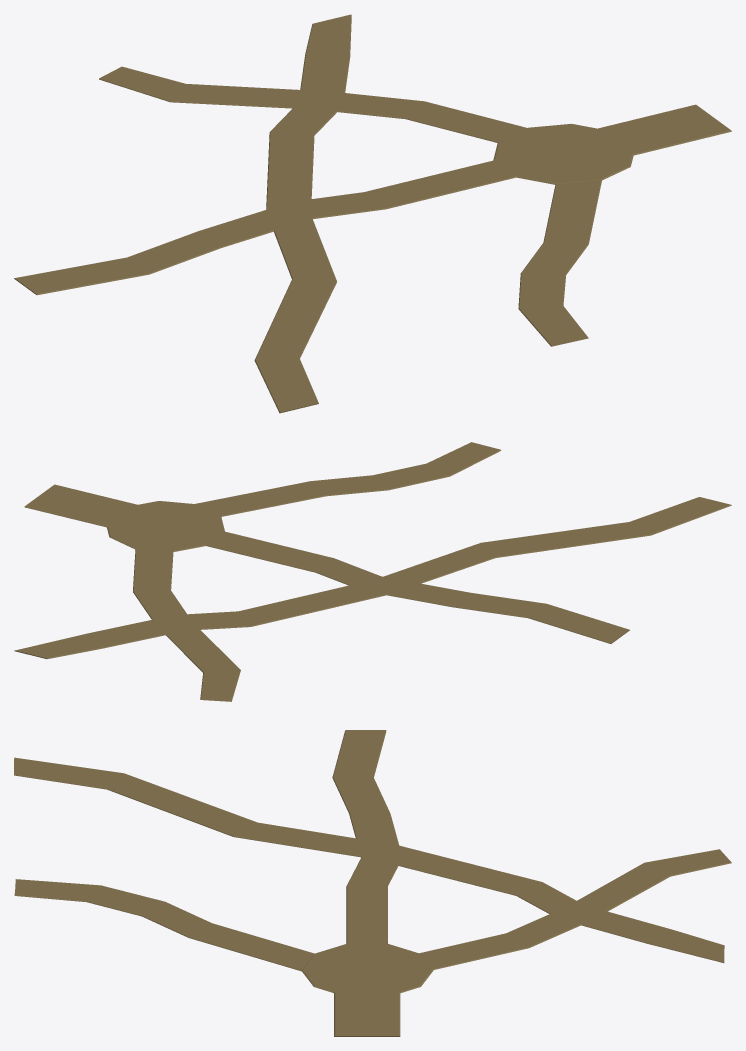
Rendered from Road.fbx.
3 renders of one model, top to bottom at view 1: azimuth 30°, elevation 25°; view 2: azimuth 150°, elevation 25°; view 3: azimuth 270°, elevation 25°, orthographic. The views are drawn at different scales.
Parts seen in each view (by area): view 1: Cube.018; view 2: Cube.018; view 3: Cube.018.
Boxes of the visible parts, box(x1,y1,x2,y2) form: Cube.018: box(14, 14, 731, 413); Cube.018: box(14, 442, 731, 701); Cube.018: box(14, 730, 731, 1036).
Size of the model in its own units: 7408 by 14.34 by 7345.
